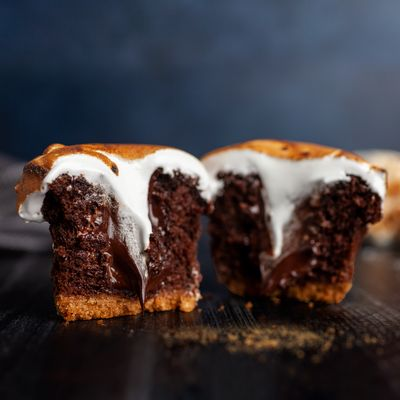salad: (198, 138, 388, 313)
